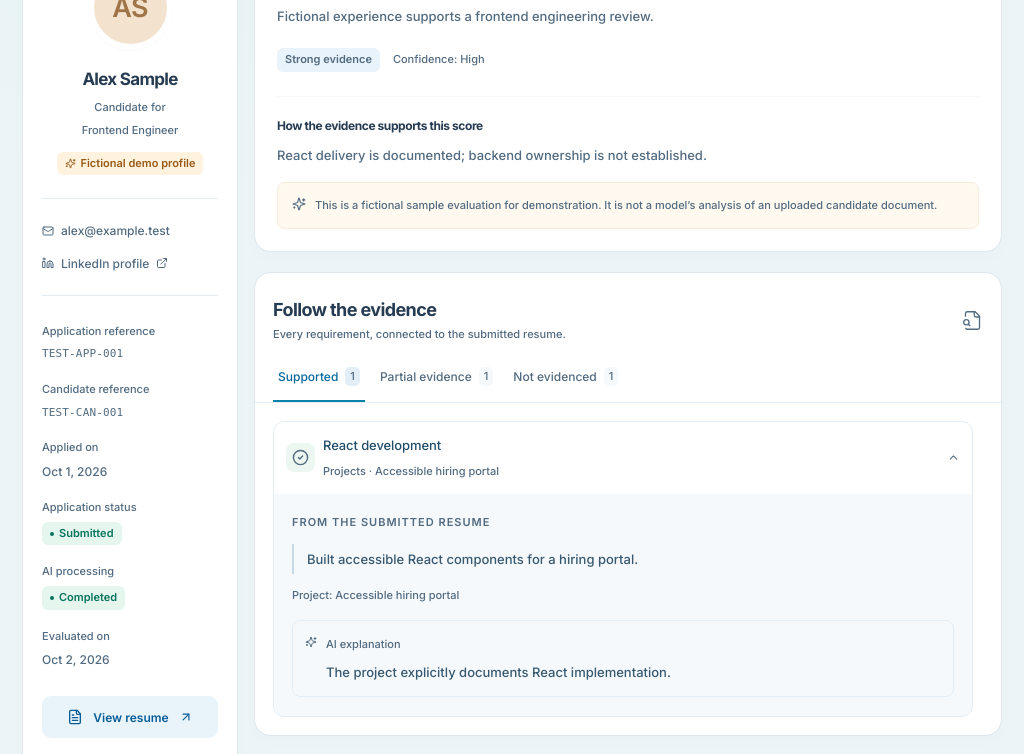
it: candidate evidence review › ties evaluation to both job and application and exposes source evidence, partial support, and gaps
The image size is (1024, 754).
(page scrolled)
Expected: the heading "Alex Sample" is shown, [82,68,178,90]
Expected: the text "React delivery is documented; backend ownership is not established." is shown, [277,147,707,163]
Click the tab "Partial evidence 1" at (437, 384), box [375,366,498,402]
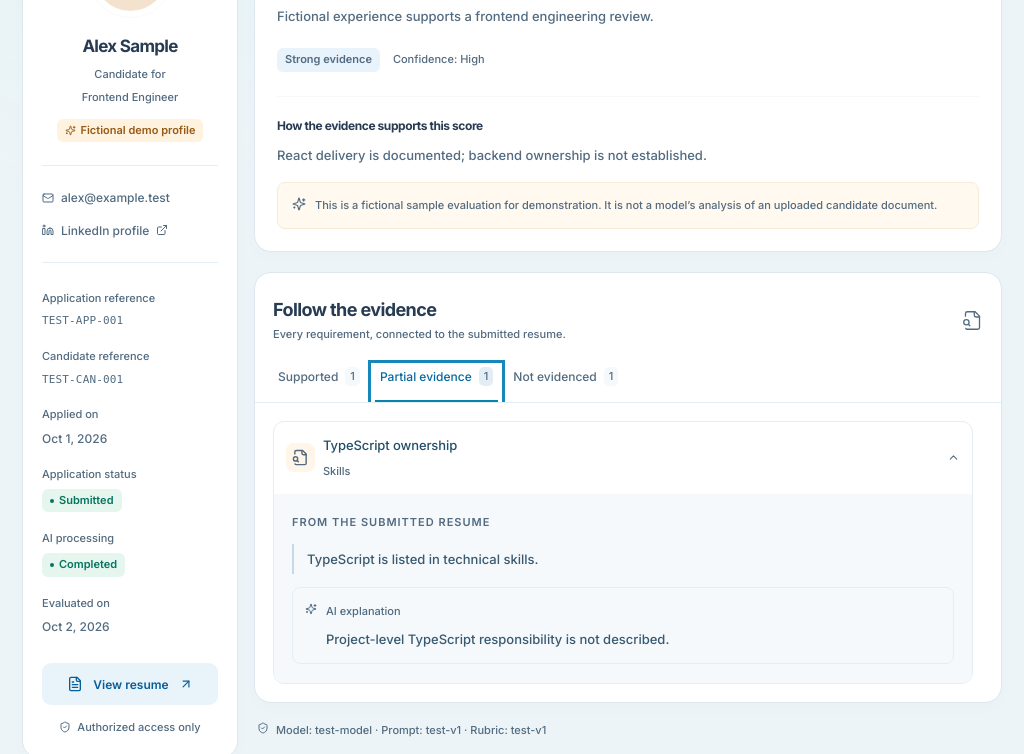
Expected: the text "TypeScript ownership" is shown, [323,437,457,453]
Expected: the heading "React development" is gone
Click the tab "Not evidenced 1" at (566, 384), box [508,366,623,402]
(page scrolled)
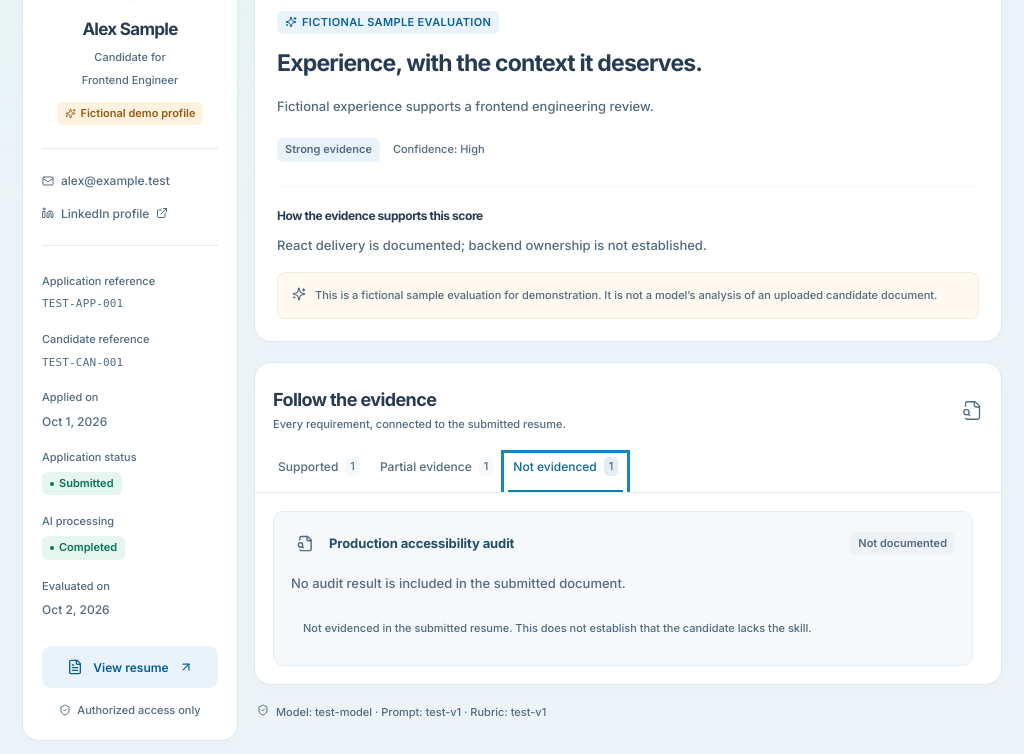
Expected: the number of tabs is 3, [273,456,365,492]; [375,456,498,492]; [508,456,623,492]
Expected: the heading "Production accessibility audit" is shown, [329,535,514,551]
Expected: the text "does not establish that the candidate lacks the skill" is shown, [303,621,812,635]
